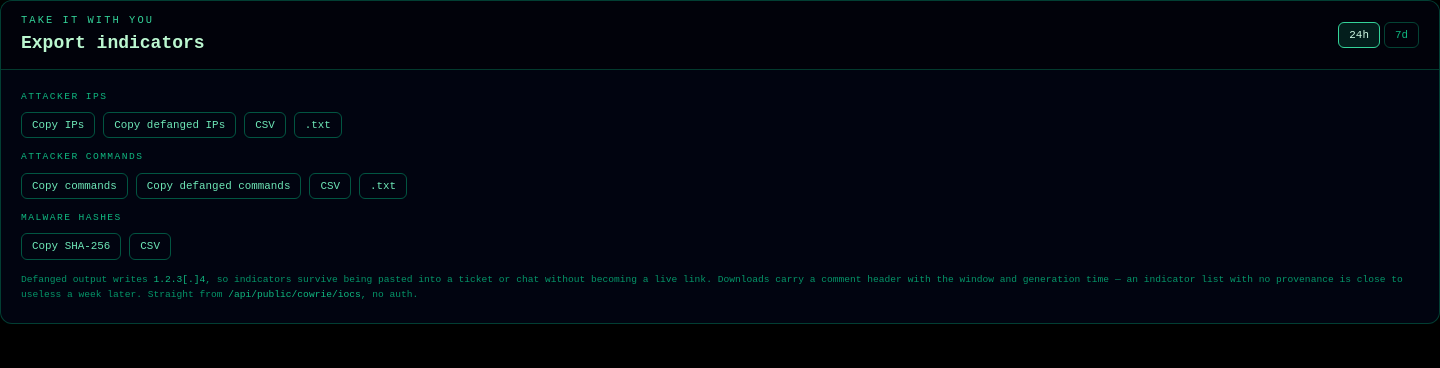
Test: IocExport › says so when the clipboard is unavailable instead of failing silently
Click the button "Copy IPs": (58, 125) [21, 112, 95, 138]
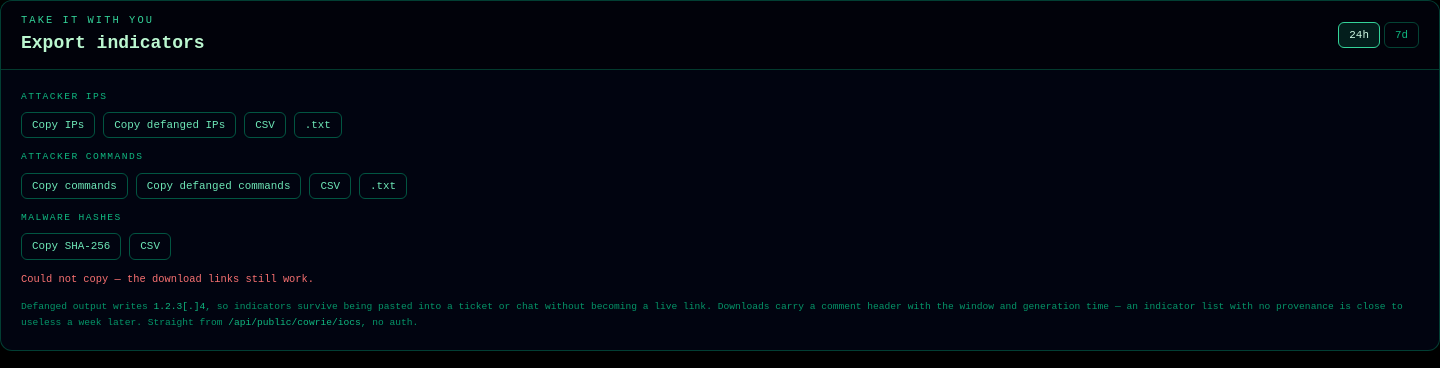
Result: the message shows "download links still work" at [21, 273, 314, 285]
